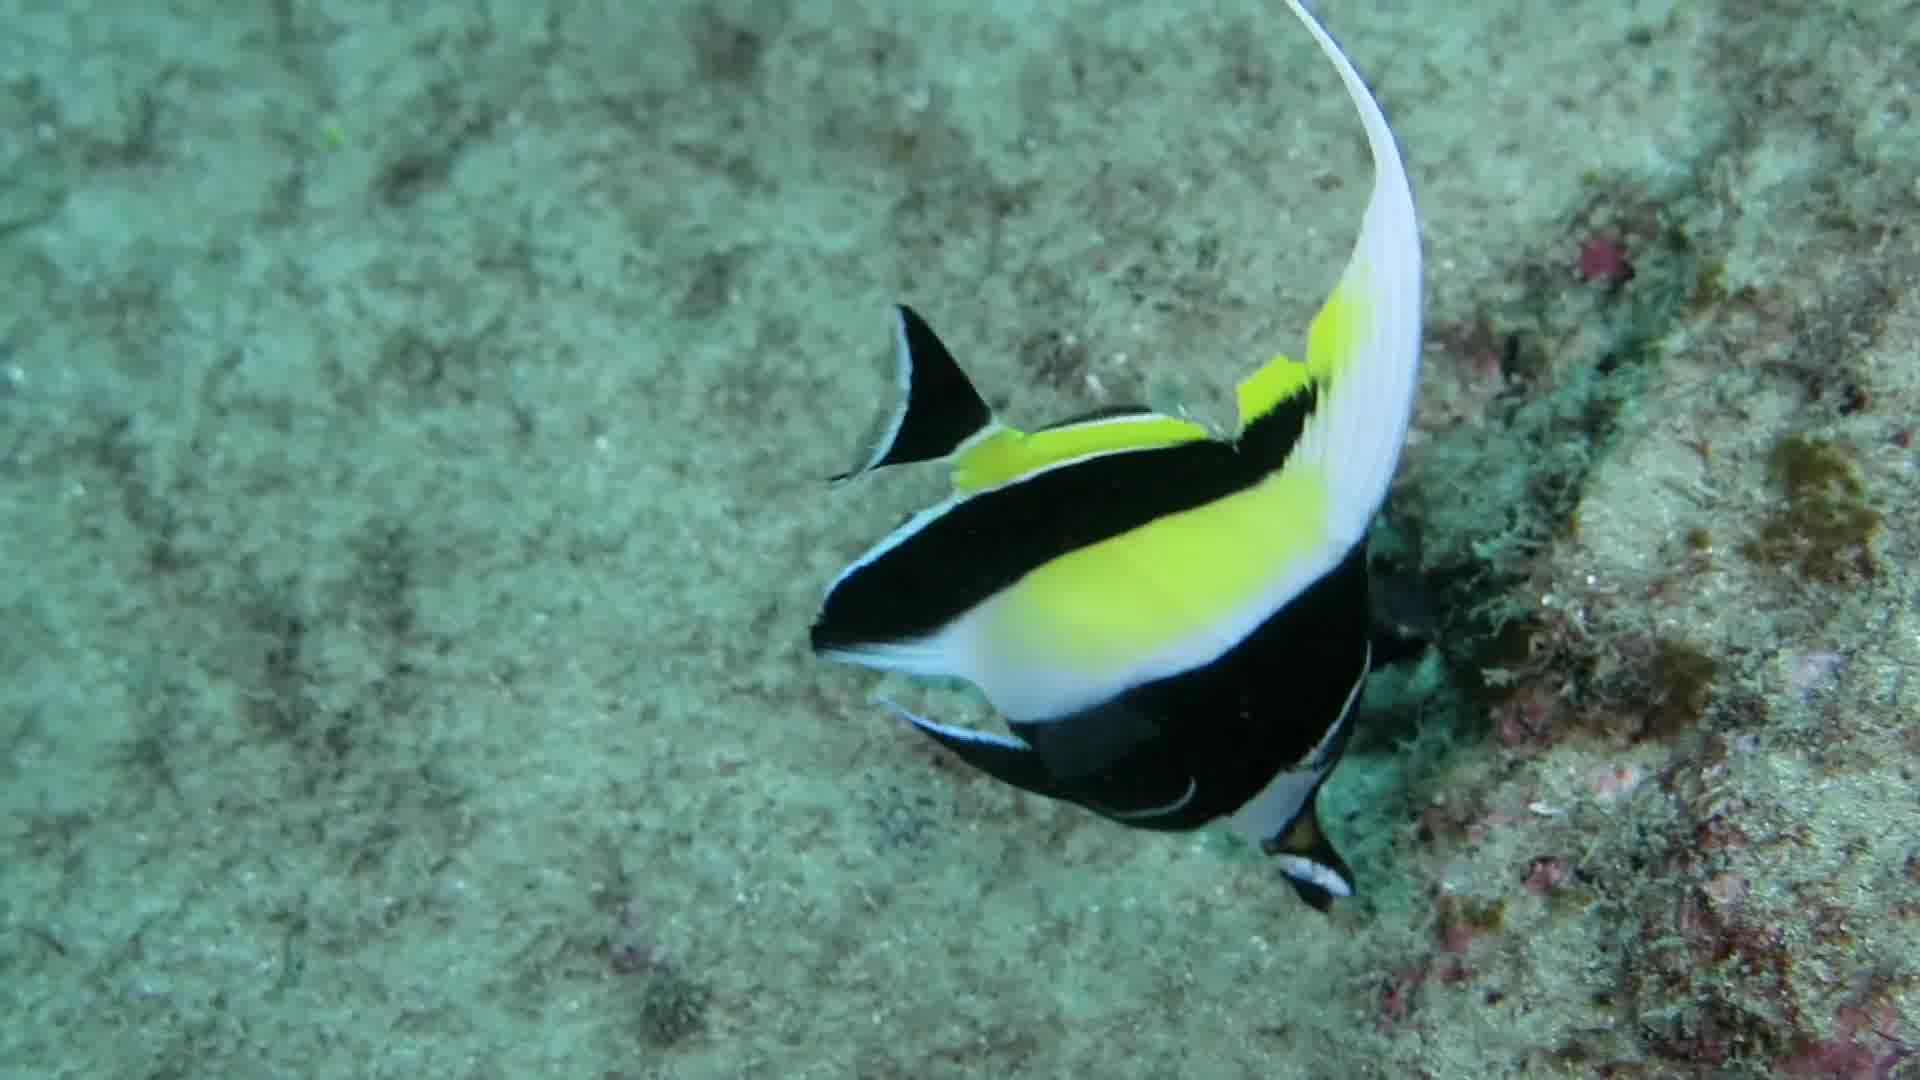Zanclus cornutus: (762, 282, 1527, 907)
